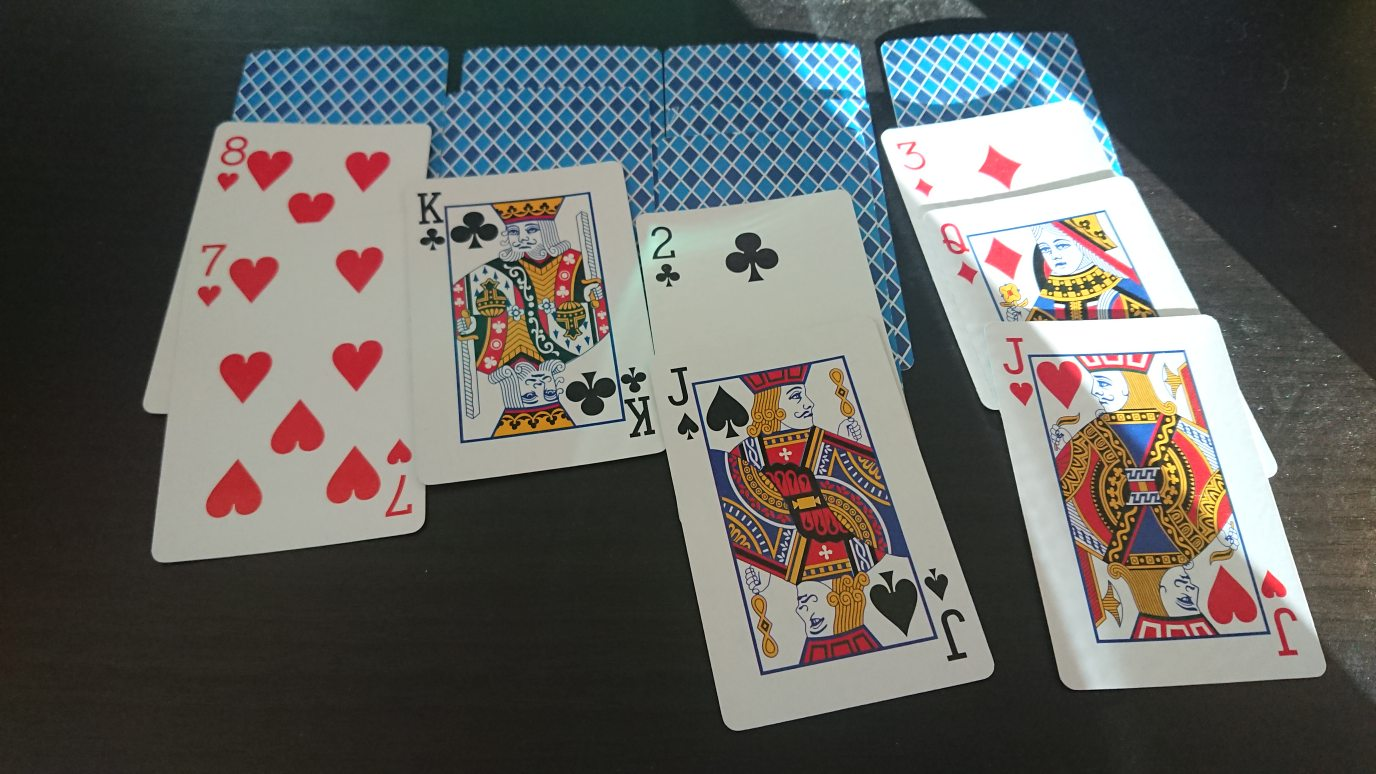2C: (645, 223, 685, 292)
3D: (894, 138, 938, 200)
7H: (195, 239, 229, 310)
8H: (215, 134, 248, 193)
BACK: (878, 30, 1098, 110), (230, 43, 448, 123), (445, 89, 653, 169), (657, 130, 874, 198), (663, 43, 866, 98), (459, 44, 665, 90), (665, 100, 874, 135)
JH: (999, 334, 1037, 409)
JS: (664, 362, 703, 445)
KC: (414, 189, 449, 254)
QD: (938, 220, 981, 288)
